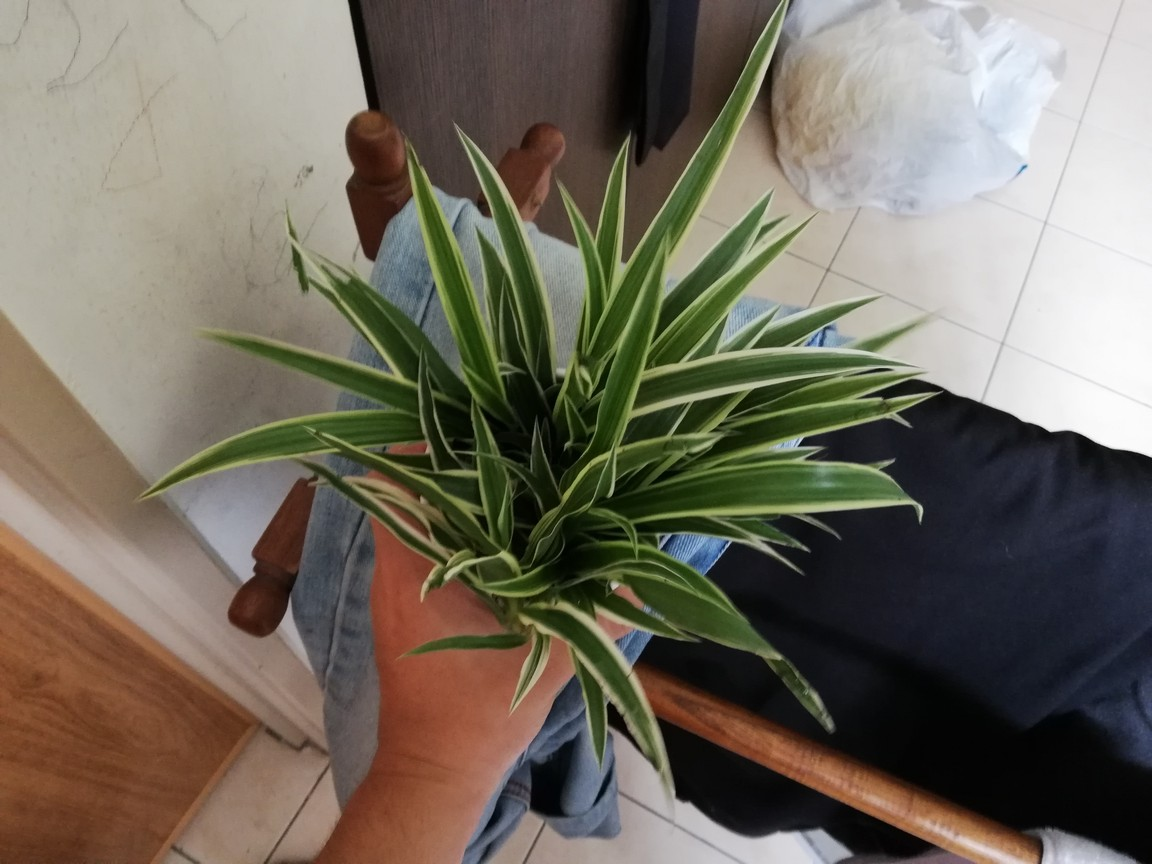daun: (661, 1, 818, 180), (136, 417, 293, 508), (606, 229, 674, 418), (189, 318, 343, 401), (401, 126, 453, 302), (451, 118, 519, 222), (416, 342, 456, 470), (594, 125, 634, 246), (771, 659, 837, 732), (550, 168, 594, 263), (860, 303, 956, 346), (621, 601, 701, 652), (782, 345, 925, 370), (808, 290, 890, 331), (758, 208, 823, 257), (395, 634, 500, 664), (580, 687, 610, 781), (468, 214, 508, 282), (463, 570, 553, 600), (833, 390, 951, 412), (822, 369, 937, 391), (297, 418, 365, 455), (743, 518, 817, 551), (592, 436, 625, 507), (756, 543, 805, 590), (510, 634, 535, 722), (733, 301, 783, 343), (525, 414, 553, 483), (793, 510, 844, 545), (752, 444, 831, 466), (557, 387, 590, 436), (748, 209, 795, 239), (737, 184, 775, 218), (494, 353, 532, 382), (866, 452, 908, 475), (883, 408, 915, 433)
